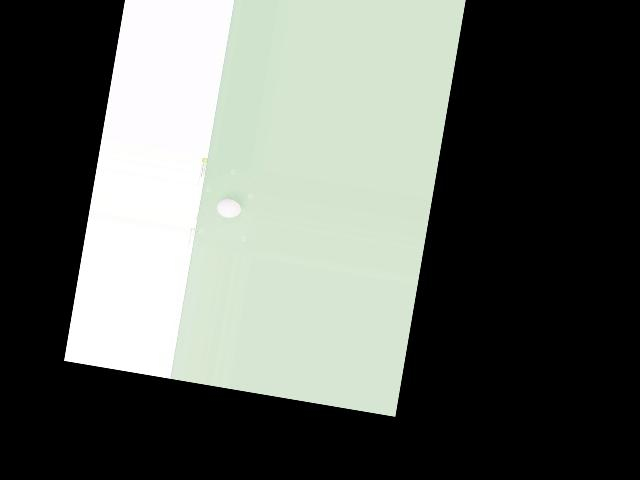egg: (215, 197, 242, 219)
